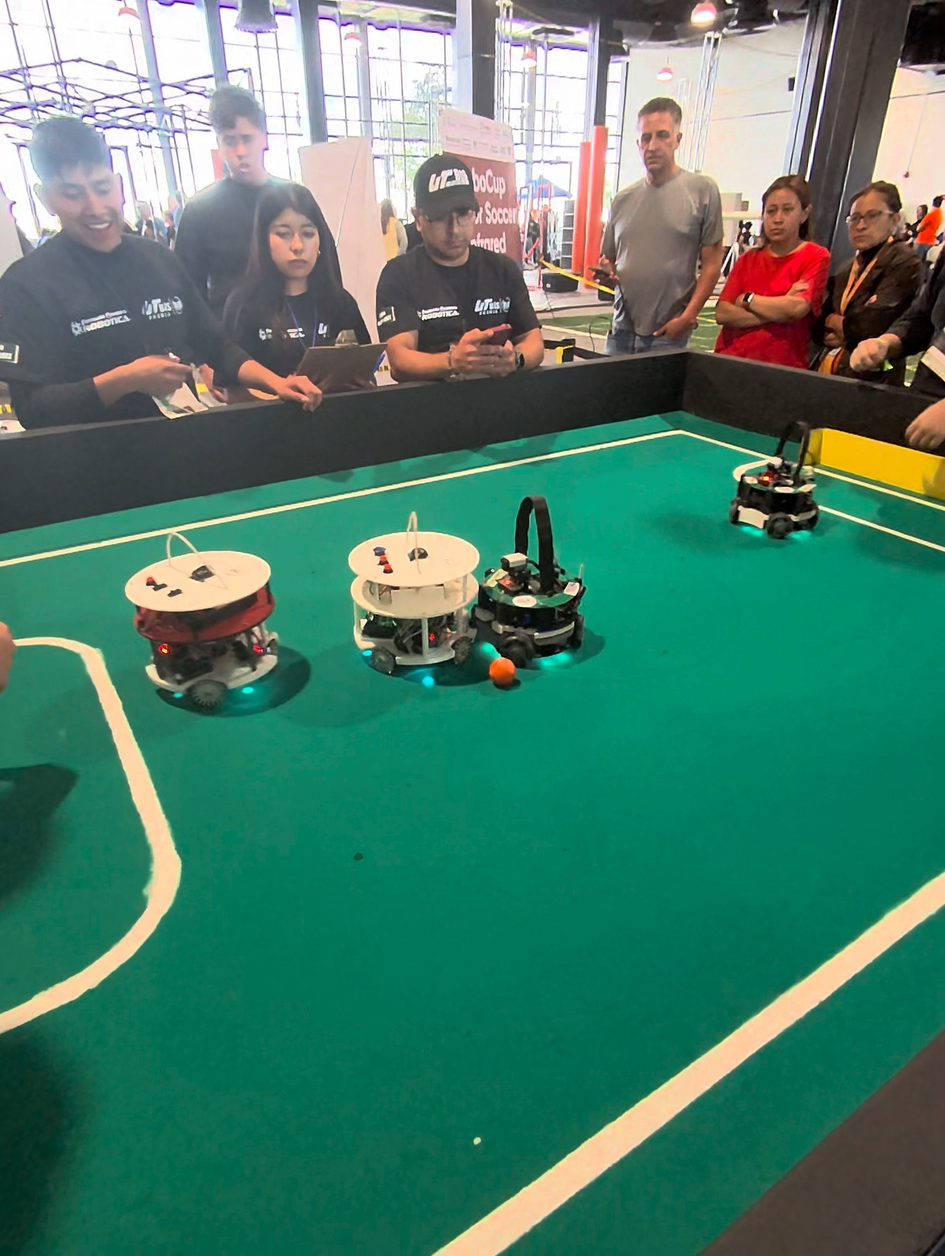Robot: (117, 529, 298, 727), (343, 506, 487, 690), (473, 483, 591, 671), (722, 422, 825, 559)
pelota: (487, 658, 526, 694)
